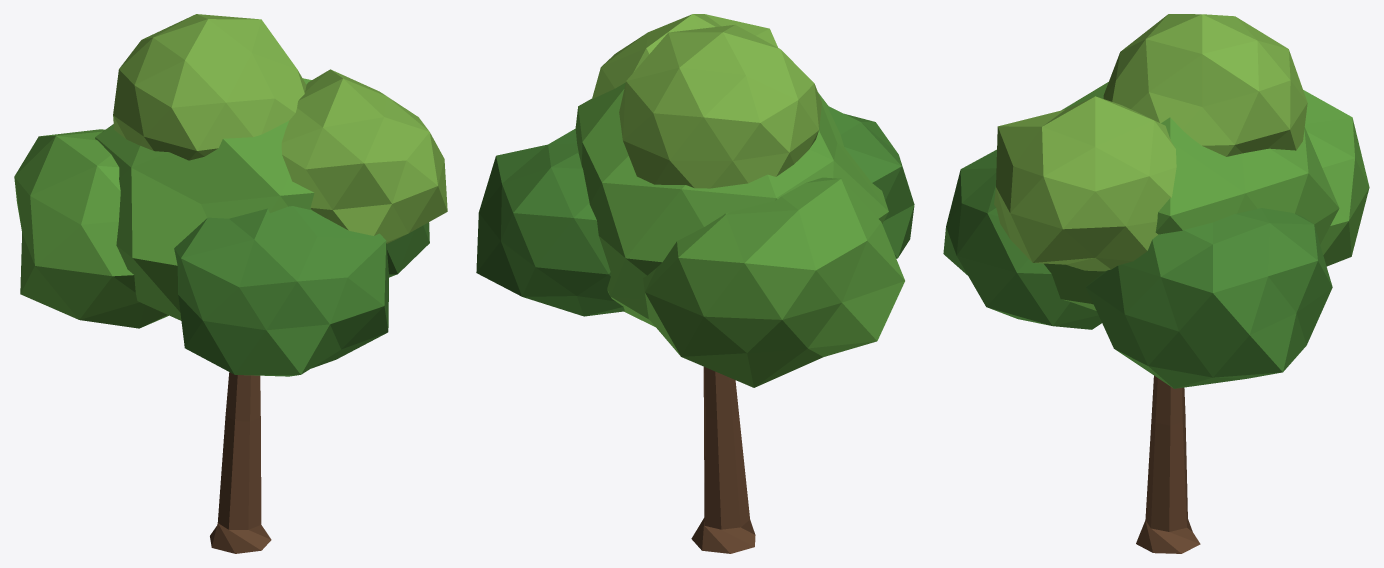
The model's file is tree_large.glb.
3 renders of one model, left to right at view 1: azimuth 30°, elevation 25°; view 2: azimuth 150°, elevation 25°; view 3: azimuth 270°, elevation 25°, orthographic. The views are drawn at different scales.
Parts seen in each view (by area): view 1: Tree_Large; view 2: Tree_Large; view 3: Tree_Large.
Part boxes in pixels (bbox=[...]): Tree_Large: bbox=[14, 14, 447, 553]; Tree_Large: bbox=[476, 14, 914, 553]; Tree_Large: bbox=[943, 14, 1369, 553].
Size of the model in its own units: 8.59 by 10.73 by 7.98.
